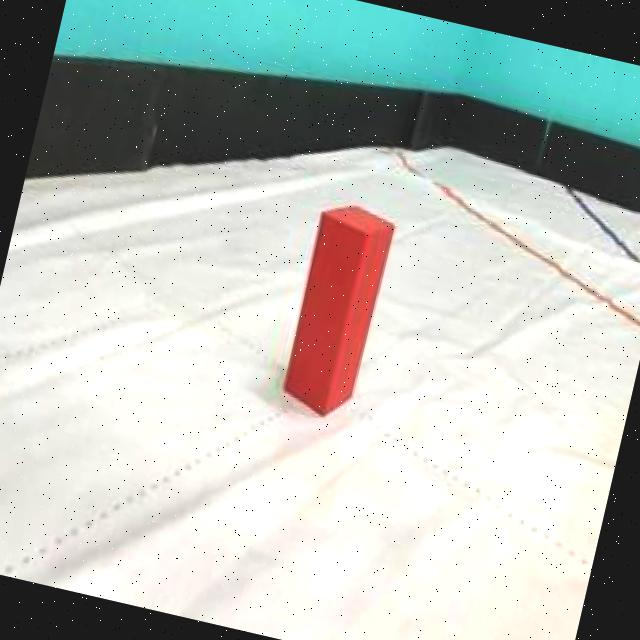redbox: (276, 200, 396, 422)
